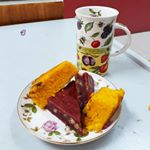cups: (72, 4, 133, 62)
